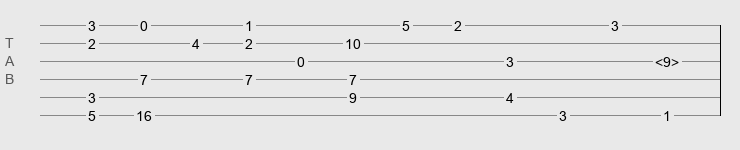0: (140, 18, 148, 28), (297, 54, 305, 64)
1: (245, 18, 253, 28), (663, 108, 671, 118)
10: (345, 36, 361, 46)
16: (136, 108, 152, 118)
2: (88, 36, 96, 46), (245, 36, 253, 46), (454, 18, 462, 28)
3: (88, 90, 96, 100), (88, 18, 96, 28), (506, 54, 514, 64), (559, 108, 567, 118), (611, 18, 619, 28)
4: (192, 36, 200, 46), (506, 90, 514, 100)
5: (88, 108, 96, 118), (402, 18, 410, 28)
7: (140, 72, 148, 82), (245, 72, 253, 82), (349, 72, 357, 82)
9: (349, 90, 357, 100)
harmonic: (655, 54, 679, 64)
